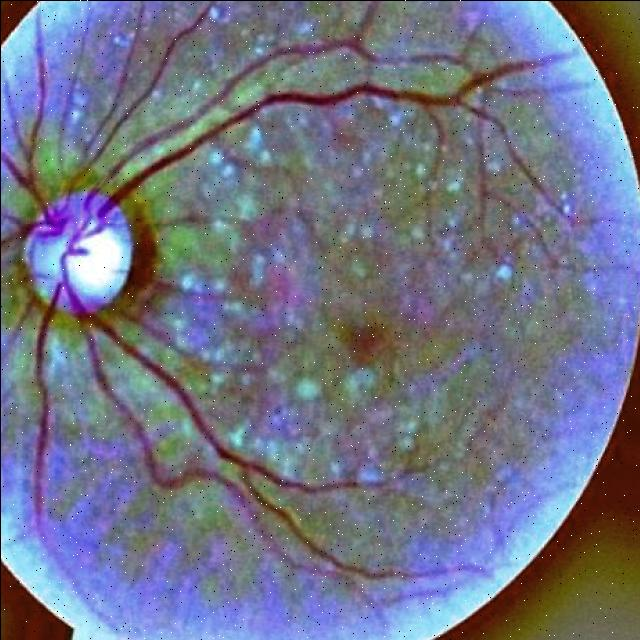Macula: (327, 312, 403, 368)
Nerves: (0, 39, 561, 578), (76, 0, 215, 175)
Optic Disk: (25, 190, 132, 309)
